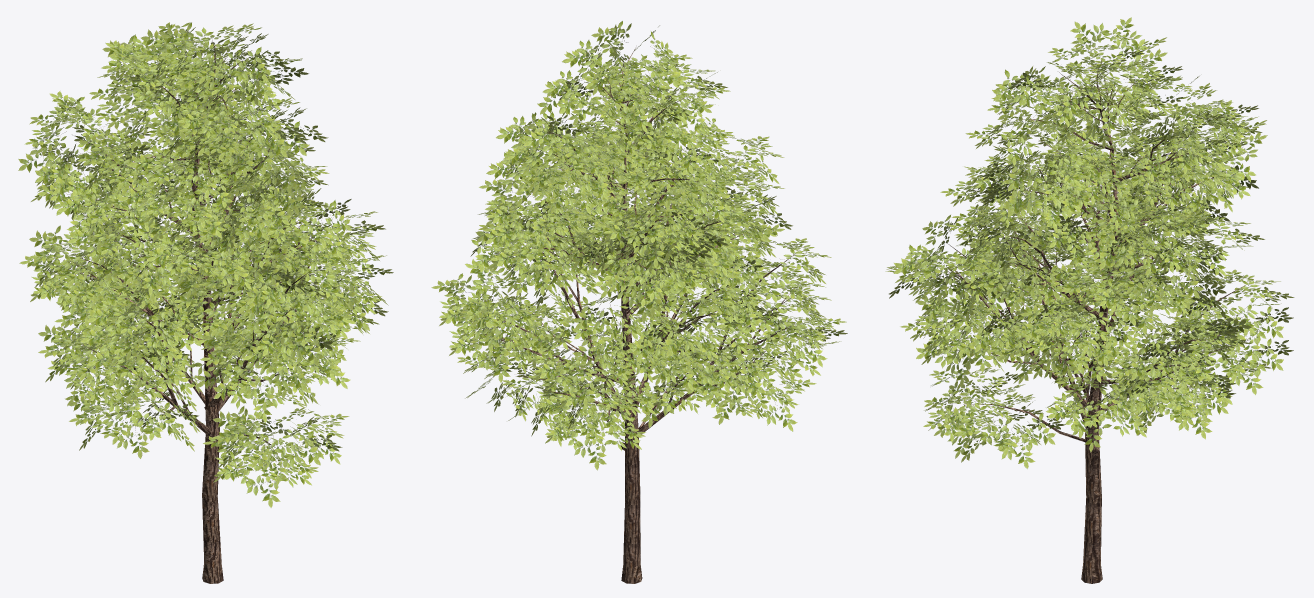
The model's file is Arvore.dae.
3 renders of one model, left to right at view 1: azimuth 30°, elevation 25°; view 2: azimuth 150°, elevation 25°; view 3: azimuth 270°, elevation 25°, orthographic. The views are drawn at different scales.
Visible parts, largest first — view 1: trunk, image_0; view 2: trunk; view 3: trunk.
Part boxes in pixels (x1,y1,x2,y2): trunk: [192, 60, 242, 583]; image_0: [284, 430, 323, 466]; trunk: [620, 48, 642, 583]; trunk: [1059, 72, 1120, 583].
Size of the model in its own units: 169 by 175 by 247.
2 materials, 2 textured.
